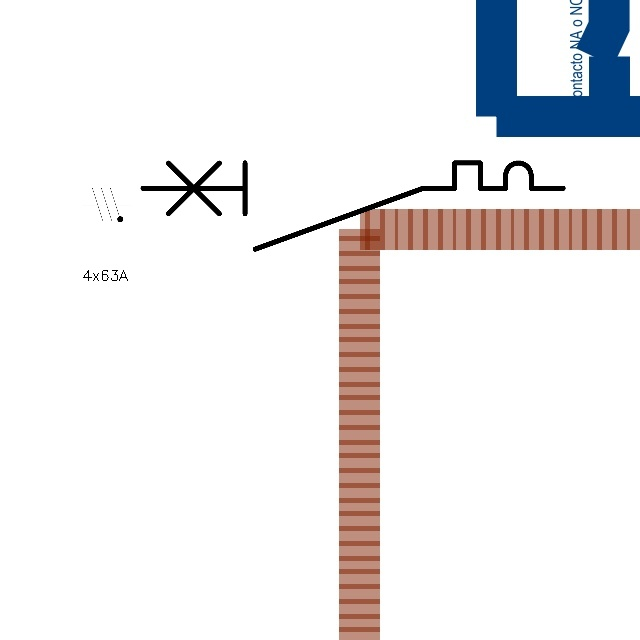interruptor_termomagnetico: (132, 152, 574, 260)
